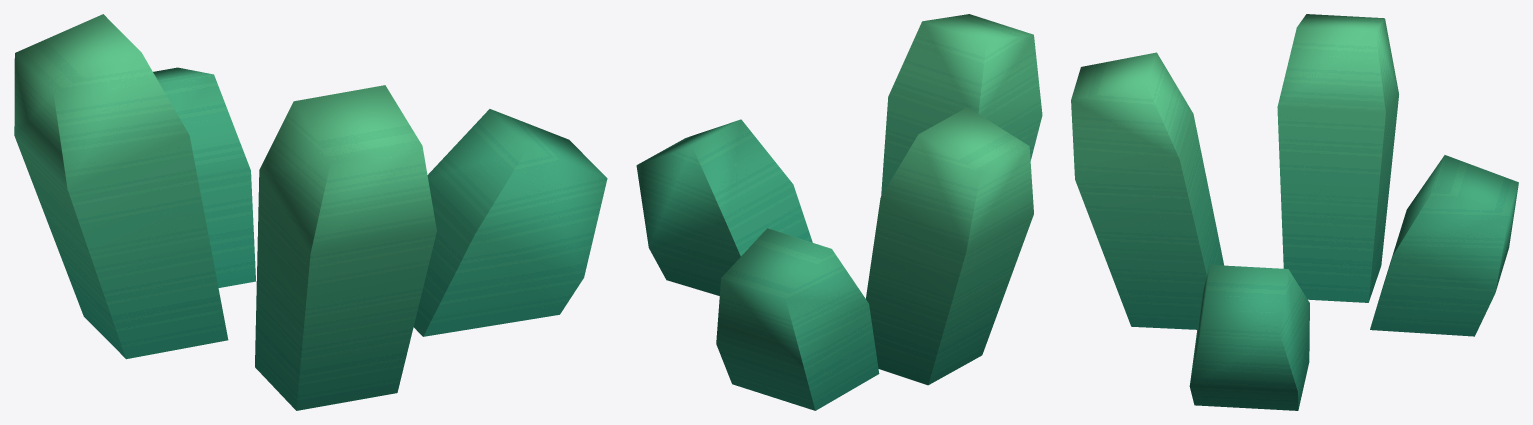
The model's file is grass.002_lev2.glb.
3 views of the same model, side by side, from view 1: azimuth 30°, elevation 25°; view 2: azimuth 150°, elevation 25°; view 3: azimuth 270°, elevation 25° (orthographic). The views are drawn at different scales.
Visible parts, largest first — view 1: grass.002_lev2; view 2: grass.002_lev2; view 3: grass.002_lev2.
Part boxes in pixels (left/top/right/bottom): grass.002_lev2: left=14, top=14, right=607, bottom=410; grass.002_lev2: left=636, top=14, right=1042, bottom=410; grass.002_lev2: left=1071, top=14, right=1518, bottom=410.
Size of the model in its own units: 0.544 by 0.3139 by 0.5306.
Materials: 1 (1 with a texture image).
